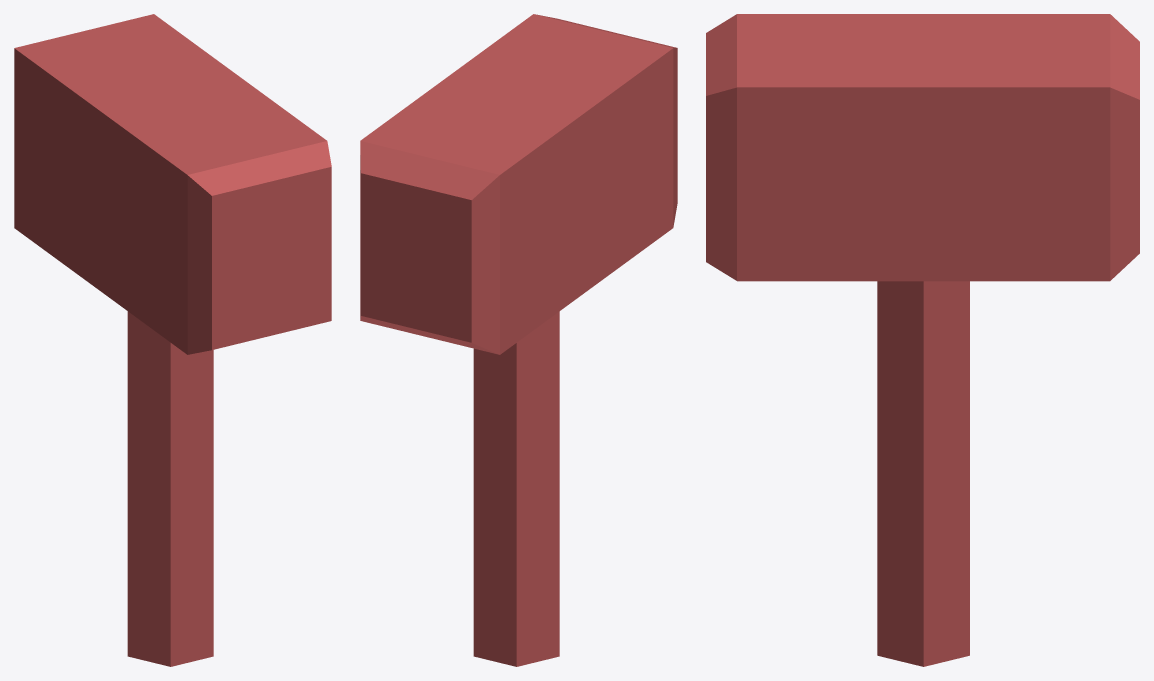
Rendered from marteau_forge.fbx.
3 views of the same model, side by side, from view 1: azimuth 30°, elevation 25°; view 2: azimuth 150°, elevation 25°; view 3: azimuth 270°, elevation 25° (orthographic). The views are drawn at different scales.
Parts seen in each view (by area): view 1: marteauForge; view 2: marteauForge; view 3: marteauForge.
Boxes of the visible parts, x1,y1,x2,y2 form: marteauForge: (14,14,331,666); marteauForge: (360,14,677,666); marteauForge: (706,14,1139,666).
Bounding box in the file's own units: 0.0746 × 0.2813 × 0.1863.
